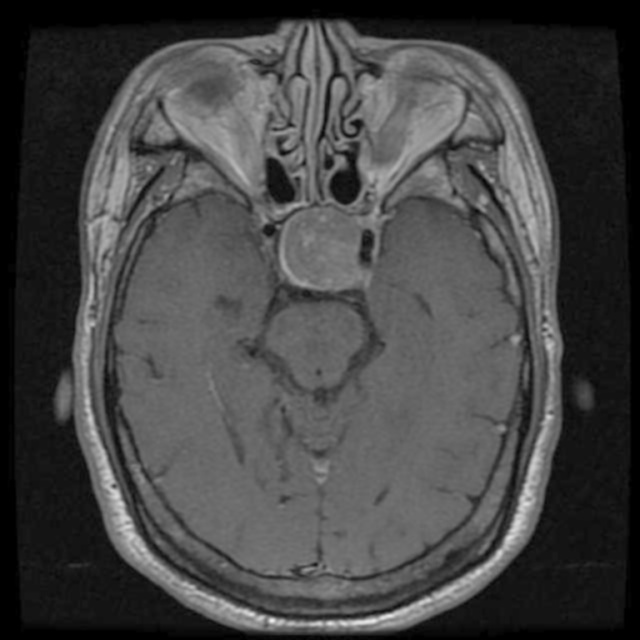no tumor: (272, 206, 370, 294)
